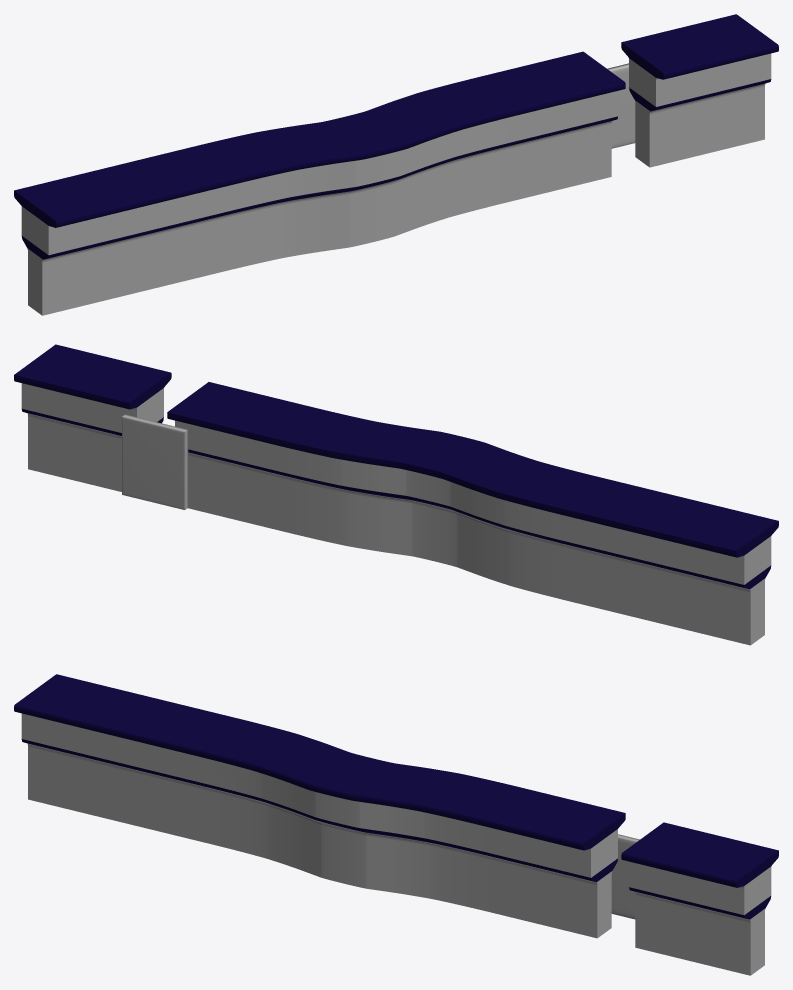
Rendered from Reposamano Biblioteca Material.glb.
The picture shows the model from 3 angles, top to bottom: view 1: azimuth 30°, elevation 25°; view 2: azimuth 150°, elevation 25°; view 3: azimuth 330°, elevation 25°; orthographic projection.
Parts seen in each view (by area): view 1: Rebosa Mano, puertita; view 2: Rebosa Mano, puertita; view 3: Rebosa Mano, puertita.
Part boxes in pixels (x1,y1,x2,y2): Rebosa Mano: [14, 14, 778, 315]; puertita: [607, 63, 635, 148]; Rebosa Mano: [14, 344, 778, 645]; puertita: [122, 414, 188, 509]; Rebosa Mano: [14, 674, 778, 975]; puertita: [611, 834, 639, 919].
Size of the model in its own units: 85.69 by 11.85 by 10.2.
